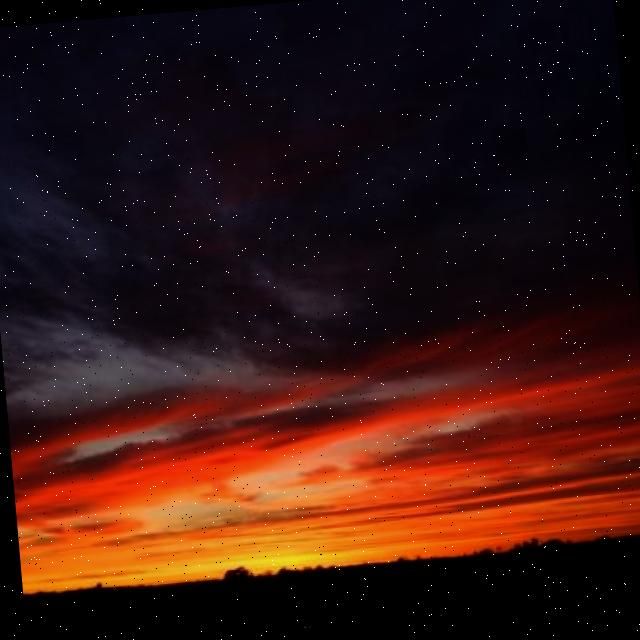As: (1, 86, 640, 553)
